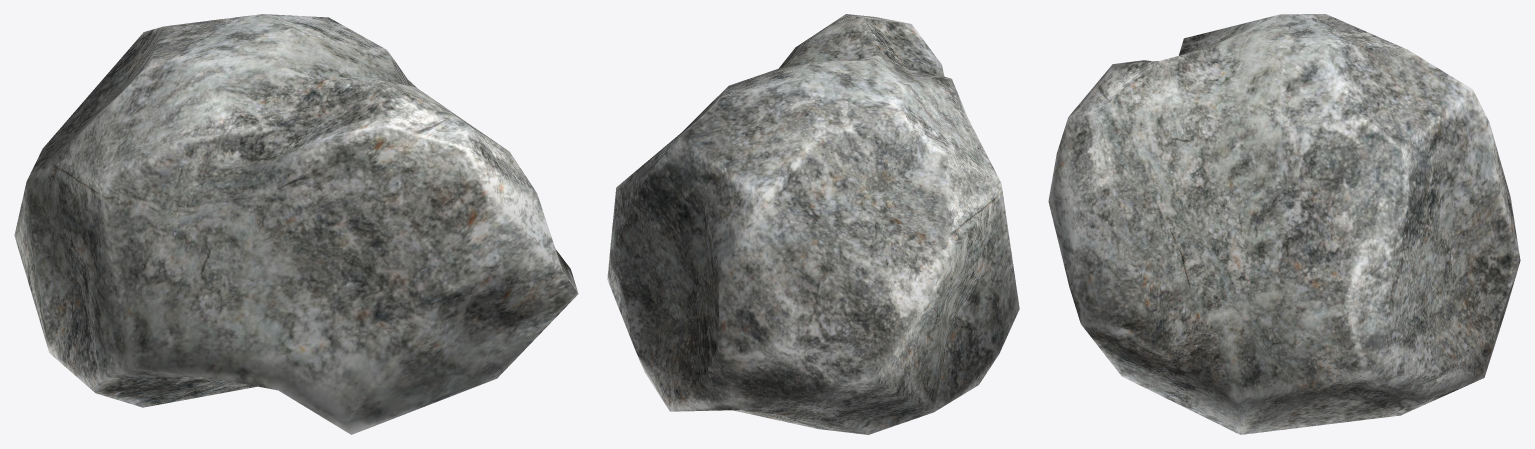
The model's file is LooseRock.fbx.
3 views of the same model, side by side, from view 1: azimuth 30°, elevation 25°; view 2: azimuth 150°, elevation 25°; view 3: azimuth 270°, elevation 25° (orthographic). The views are drawn at different scales.
Visible parts, largest first — view 1: LooseRock; view 2: LooseRock; view 3: LooseRock.
Boxes of the visible parts, x1,y1,x2,y2 form: LooseRock: (14, 14, 578, 434); LooseRock: (607, 14, 1019, 434); LooseRock: (1048, 14, 1520, 434).
Bounding box in the file's own units: 31.95 × 27.02 × 35.1.
